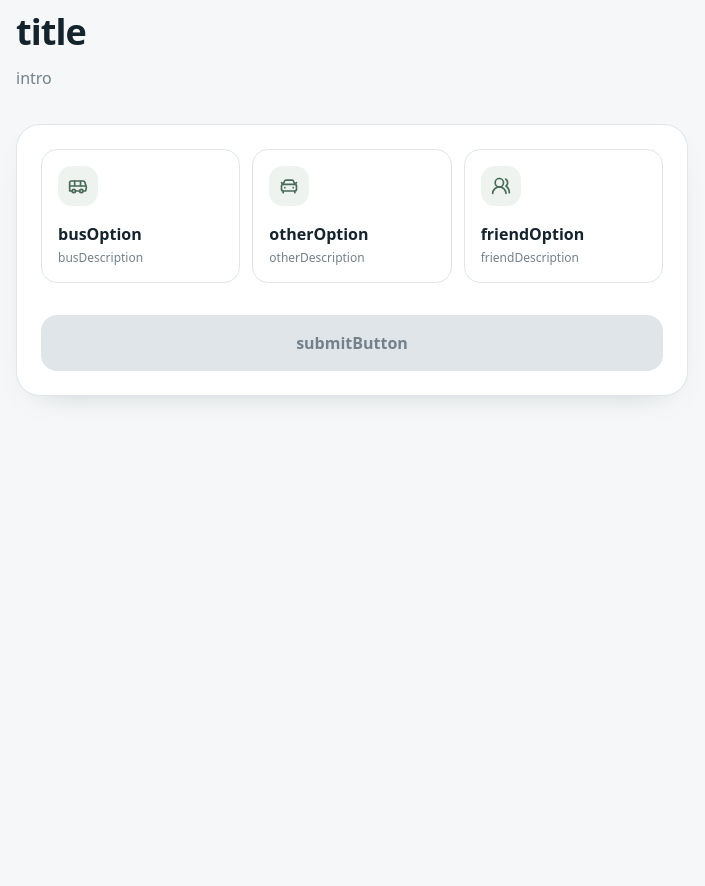
Test: ReportForm › requires a friend and sleepover choice before submitting a friend trip
This screenshot has width=705, height=886.
Click the button "friendOption friendDescription": (563, 216) x1=464 y1=149 x2=663 y2=283
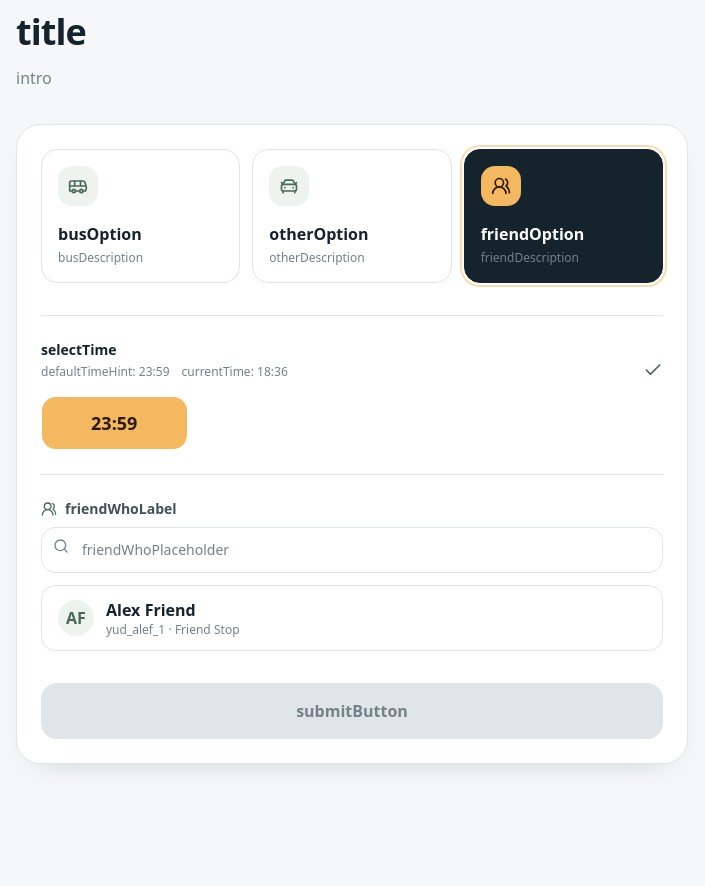
Expected: the button "submitButton" is disabled, x1=41 y1=683 x2=663 y2=739
Click the option "AF Alex Friend yud_alef_1 · Friend Stop": (76, 618) x1=42 y1=586 x2=662 y2=650
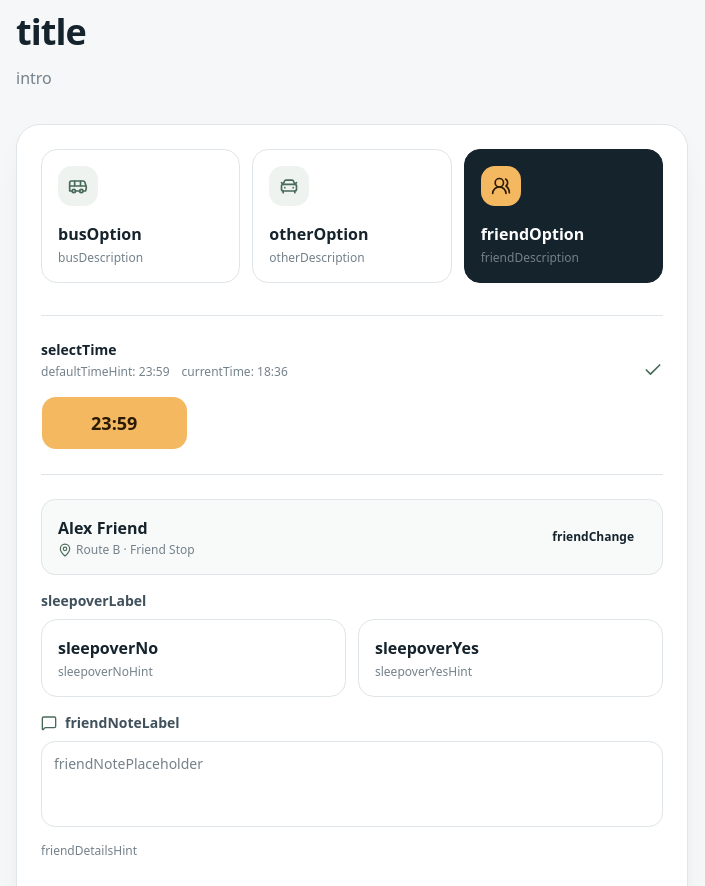
Click the button "sleepoverNo sleepoverNoHint": (108, 648) x1=41 y1=619 x2=346 y2=697
(page scrolled)
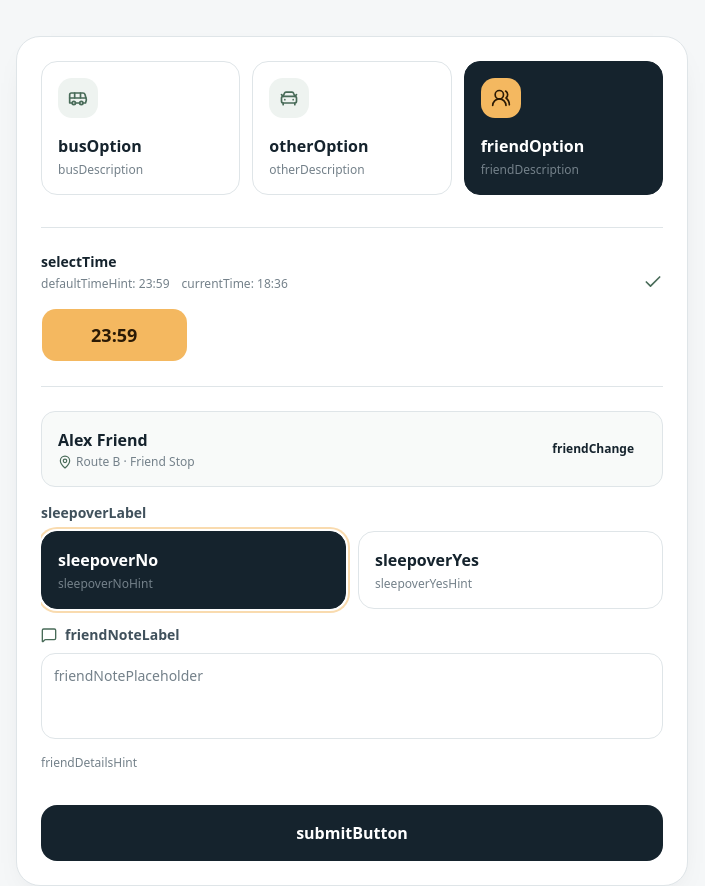
Now the button "submitButton" is enabled, box x1=41 y1=805 x2=663 y2=861
